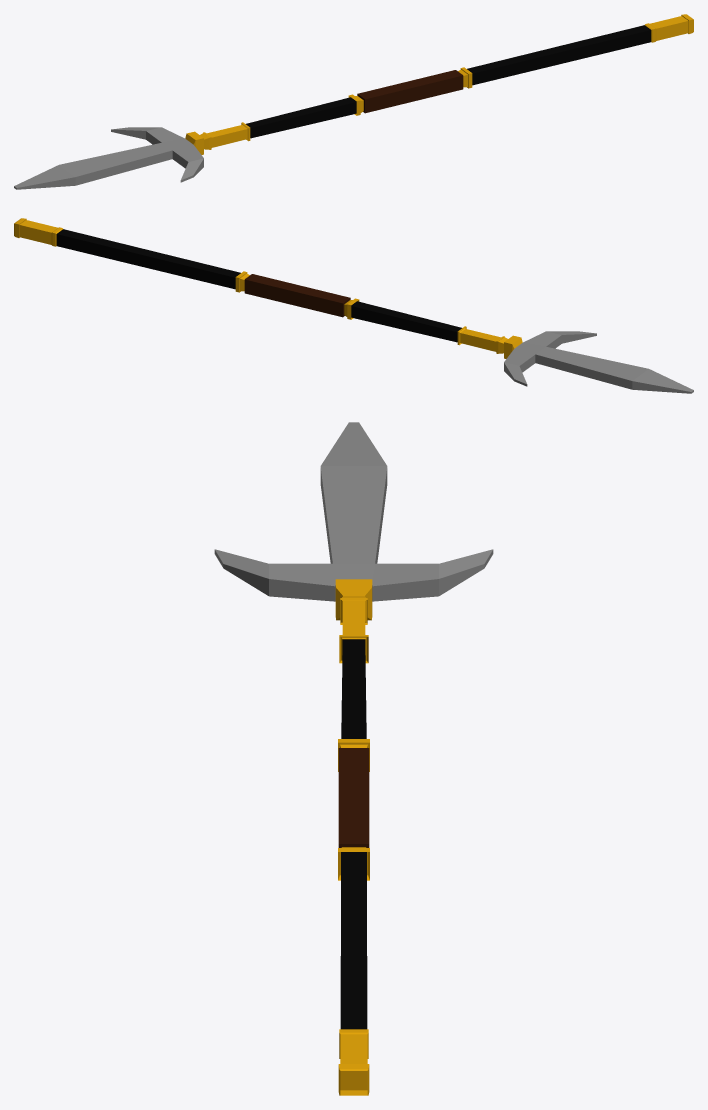
The model's file is yari.fbx.
3 renders of one model, top to bottom at view 1: azimuth 30°, elevation 25°; view 2: azimuth 150°, elevation 25°; view 3: azimuth 270°, elevation 25°, orthographic. The views are drawn at different scales.
Parts seen in each view (by area): view 1: Yari1; view 2: Yari1; view 3: Yari1.
Boxes of the visible parts, x1,y1,x2,y2 form: Yari1: (14, 14, 693, 189); Yari1: (14, 218, 693, 393); Yari1: (214, 422, 493, 1095).
Size of the model in its own units: 2.51 by 0.0586 by 0.4494.
